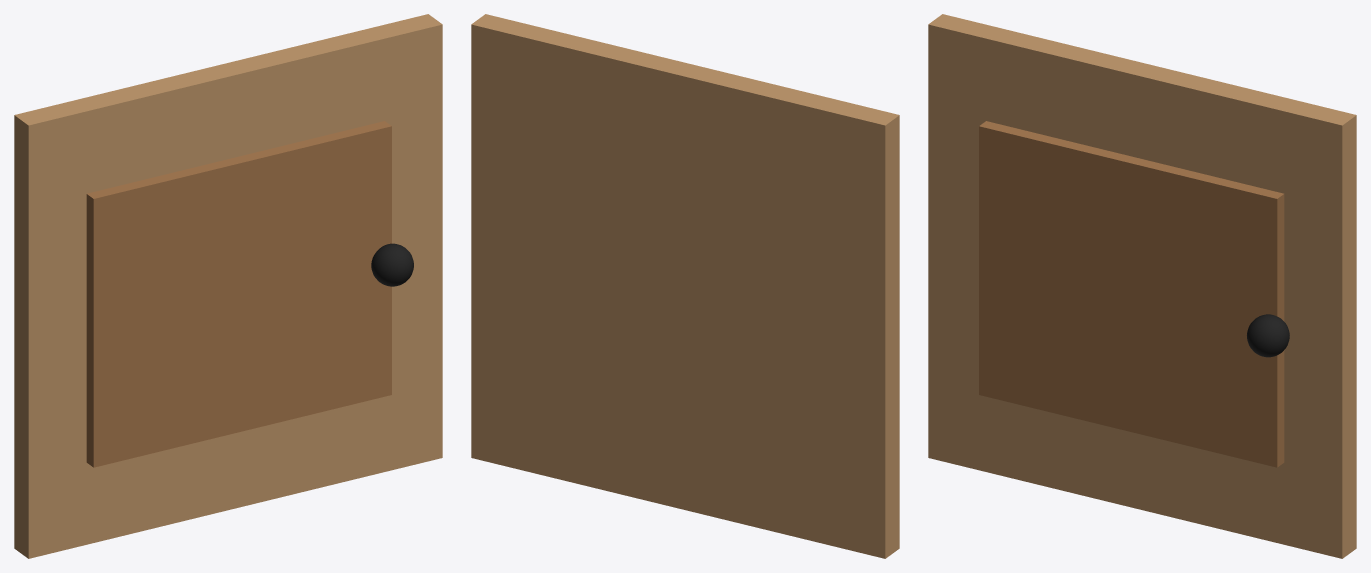
Rendered from door.glb.
The picture shows the model from 3 angles, left to right: view 1: azimuth 30°, elevation 25°; view 2: azimuth 150°, elevation 25°; view 3: azimuth 330°, elevation 25°; orthographic projection.
Visible parts, largest first — view 1: door; view 2: door; view 3: door.
Part boxes in pixels (x1=…): door: x1=14, y1=14, x2=442, y2=558; door: x1=471, y1=14, x2=899, y2=558; door: x1=928, y1=14, x2=1356, y2=558.
Size of the model in its own units: 1 by 1 by 0.155.
